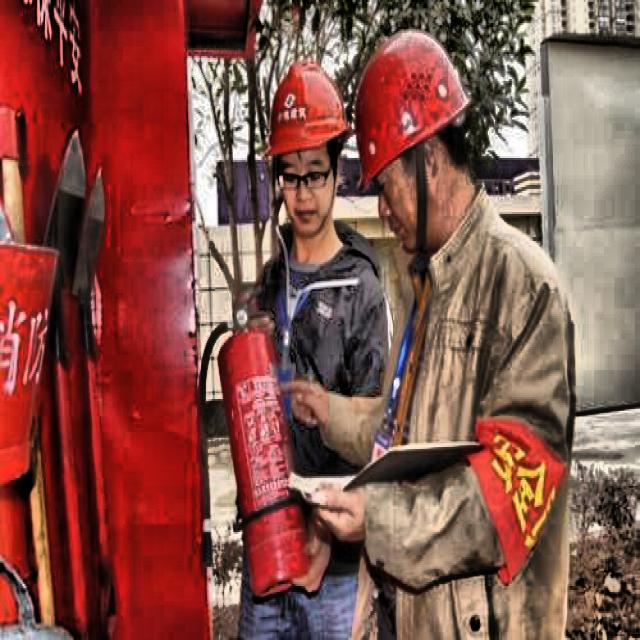helmet: (343, 29, 490, 251), (259, 56, 353, 249)
